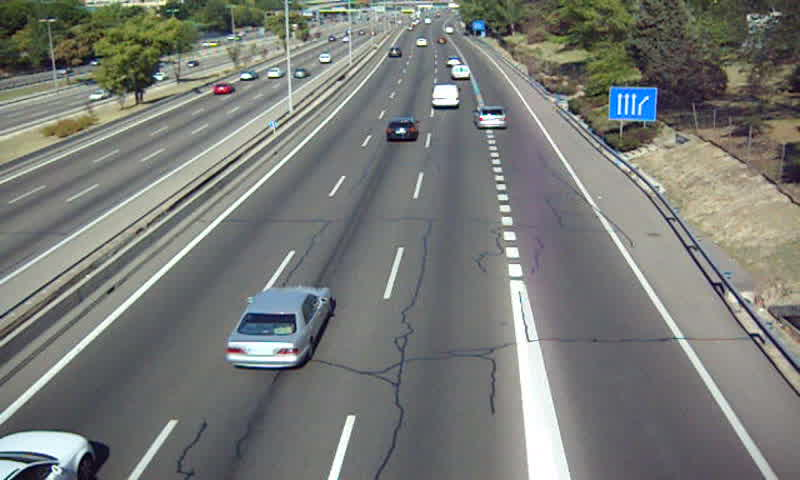car: (227, 286, 332, 369), (385, 117, 418, 142), (476, 105, 508, 130)
van: (432, 84, 459, 109), (452, 64, 470, 81)
